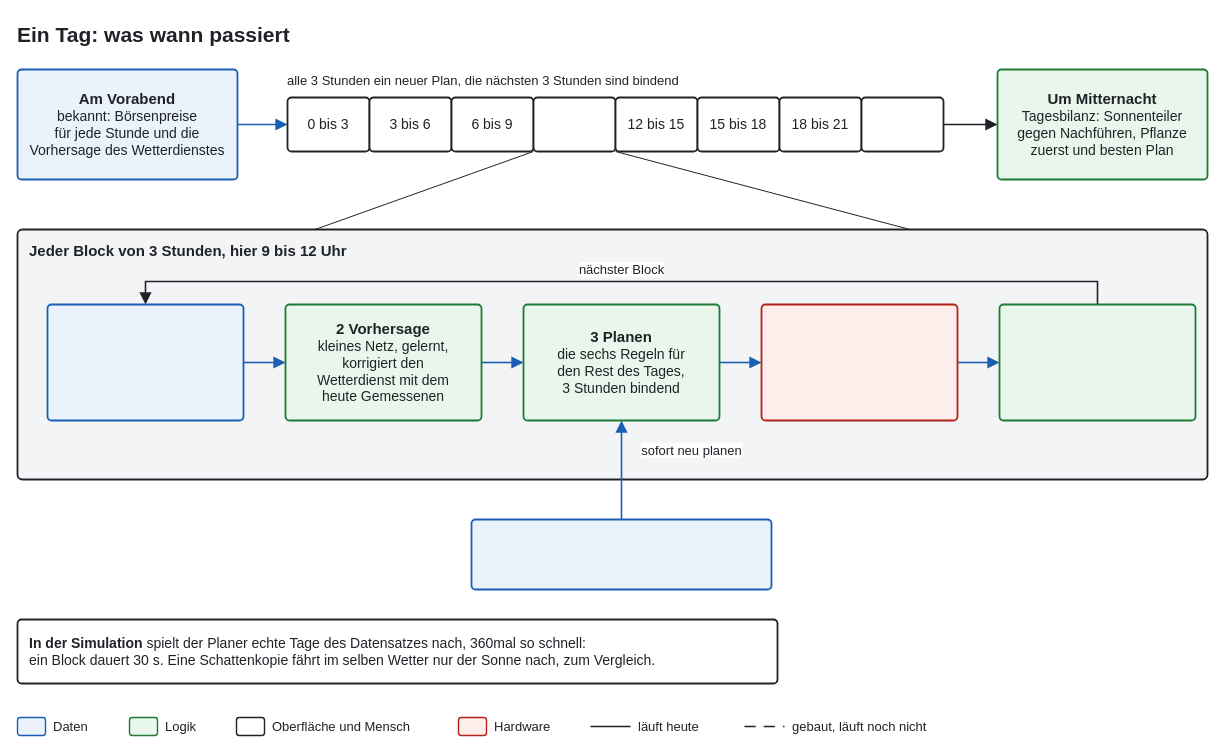
The diagram is 1226 pixels wide and 755 high, and some of its shapes have lost their labels. The shapes that lost their labels are listed below. From the top down, each one's centre as x and y in pixels, then its label:
(574,124): 9 bis 12
(902,124): 21 bis 24
(145,362): 1 Messen was Sonne und Wetter bis jetzt wirklich gebracht haben
(859,362): 4 Fahren alle 5 Minuten eine neue Pose, ein Wegdrehwinkel pro Stunde
(1097,362): 5 Rückblick Block nachrechnen: gefahren, versprochen, bestes im Nachhinein
(621,554): Neues Rezept vom Chatbot oder von Hand
